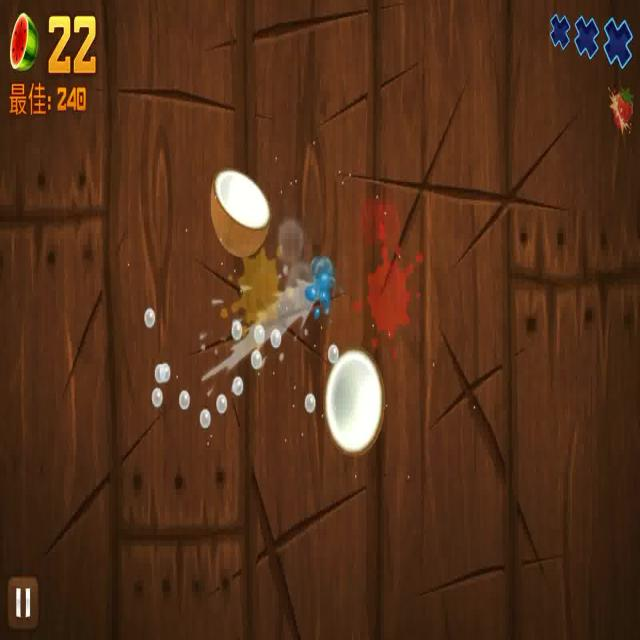fruit: (320, 342, 388, 457), (207, 168, 276, 260)
